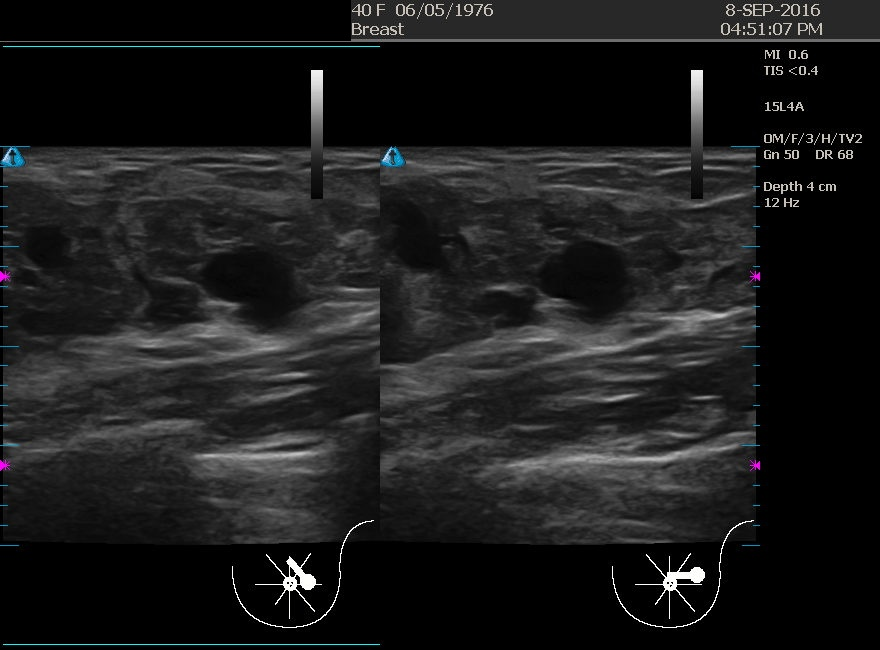BIRADS_2: (128, 224, 328, 424), (459, 225, 659, 425)
